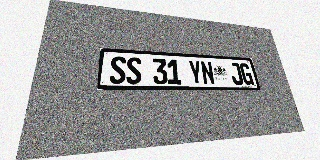1: (166, 59, 182, 84)
3: (152, 58, 168, 84)
G: (239, 63, 254, 85)
J: (229, 62, 244, 85)
N: (200, 61, 215, 85)
S: (109, 56, 126, 84), (126, 57, 142, 84)
Y: (188, 60, 203, 85)
